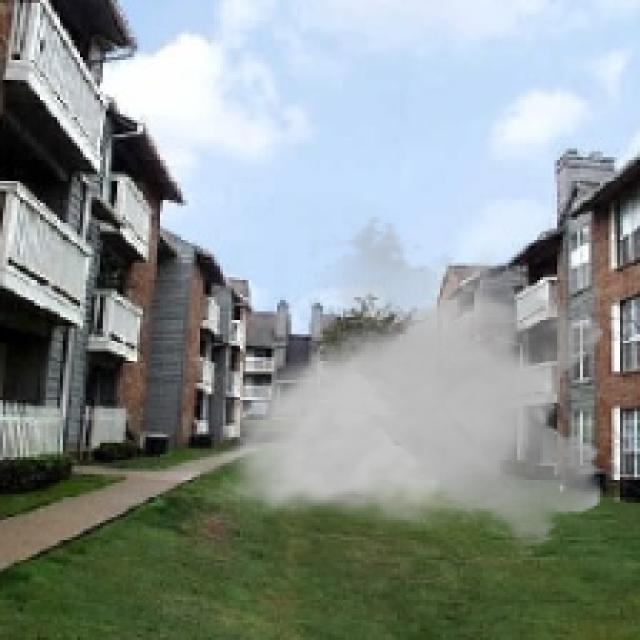smoke: (206, 214, 614, 557)
